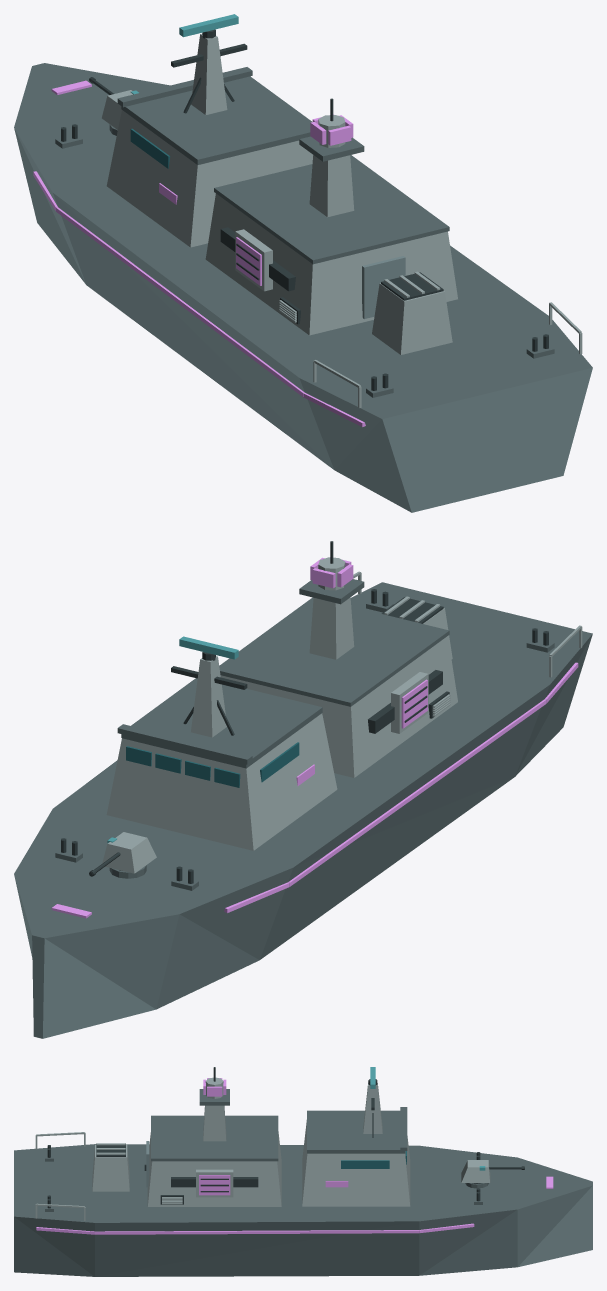
File: ESC_EW_T0.fbx
The picture shows the model from 3 angles, top to bottom: view 1: azimuth 30°, elevation 25°; view 2: azimuth 150°, elevation 25°; view 3: azimuth 270°, elevation 25°; orthographic projection. The views are drawn at different scales.
Visible parts, largest first — view 1: ContinuousHull.008, ElectronicsRoomRoof, ElectronicWarfareEquipmentRoom, Deckhouse.008, Roof.008, FunnelEnclosure.008, ESMMast, NavMast.004, RoleHullStripe-1_1, EWServiceHatch, BridgeBrow, ESMTopPlatform (+5 smaller); view 2: ContinuousHull.008, Deckhouse.008, ElectronicsRoomRoof, Roof.008, ElectronicWarfareEquipmentRoom, ESMMast, NavMast.004, RoleHullStripe-1_1, PrimaryGunCupola.008, BridgeBrow, JammerBackplate_P0, ESMTopPlatform (+4 smaller); view 3: ContinuousHull.008, Deckhouse.008, ElectronicsRoomRoof, ElectronicWarfareEquipmentRoom, Roof.008, FunnelEnclosure.008, RoleHullStripe1_1, ESMMast, NavMast.004, PrimaryGunCupola.008, JammerFace_S0, JammerWallBracket_S (+4 smaller).
Part boxes in pixels (x1,y1,x2,y2): ContinuousHull.008: (14, 63, 592, 512); ElectronicsRoomRoof: (214, 155, 449, 264); ElectronicWarfareEquipmentRoom: (205, 193, 457, 335); Deckhouse.008: (106, 110, 313, 247); Roof.008: (121, 76, 312, 164); FunnelEnclosure.008: (372, 283, 452, 354); ESMMast: (309, 155, 354, 217); NavMast.004: (191, 34, 227, 114); RoleHullStripe-1_1: (56, 207, 304, 396); EWServiceHatch: (362, 256, 405, 318); BridgeBrow: (117, 67, 252, 107); ESMTopPlatform: (299, 136, 364, 161); ContinuousHull.008: (14, 582, 592, 1038); Deckhouse.008: (106, 713, 337, 850); ElectronicsRoomRoof: (219, 597, 449, 706); Roof.008: (121, 678, 322, 768); ElectronicWarfareEquipmentRoom: (220, 636, 457, 777); ESMMast: (309, 597, 354, 659); NavMast.004: (191, 656, 226, 737); RoleHullStripe-1_1: (288, 699, 546, 886); PrimaryGunCupola.008: (102, 832, 156, 873); BridgeBrow: (117, 724, 252, 764); JammerBackplate_P0: (391, 672, 428, 733); ESMTopPlatform: (299, 579, 364, 604); ContinuousHull.008: (14, 1144, 592, 1276); Deckhouse.008: (302, 1120, 410, 1206); ElectronicsRoomRoof: (151, 1115, 278, 1161); ElectronicWarfareEquipmentRoom: (147, 1131, 281, 1206); Roof.008: (307, 1110, 405, 1153); FunnelEnclosure.008: (92, 1144, 129, 1191); RoleHullStripe1_1: (95, 1230, 419, 1234); ESMMast: (203, 1105, 226, 1141); NavMast.004: (363, 1083, 382, 1133); PrimaryGunCupola.008: (461, 1160, 490, 1182); JammerFace_S0: (199, 1175, 230, 1195); JammerWallBracket_S: (171, 1177, 258, 1187).
Size of the model in its own units: 290 by 311 by 900.
